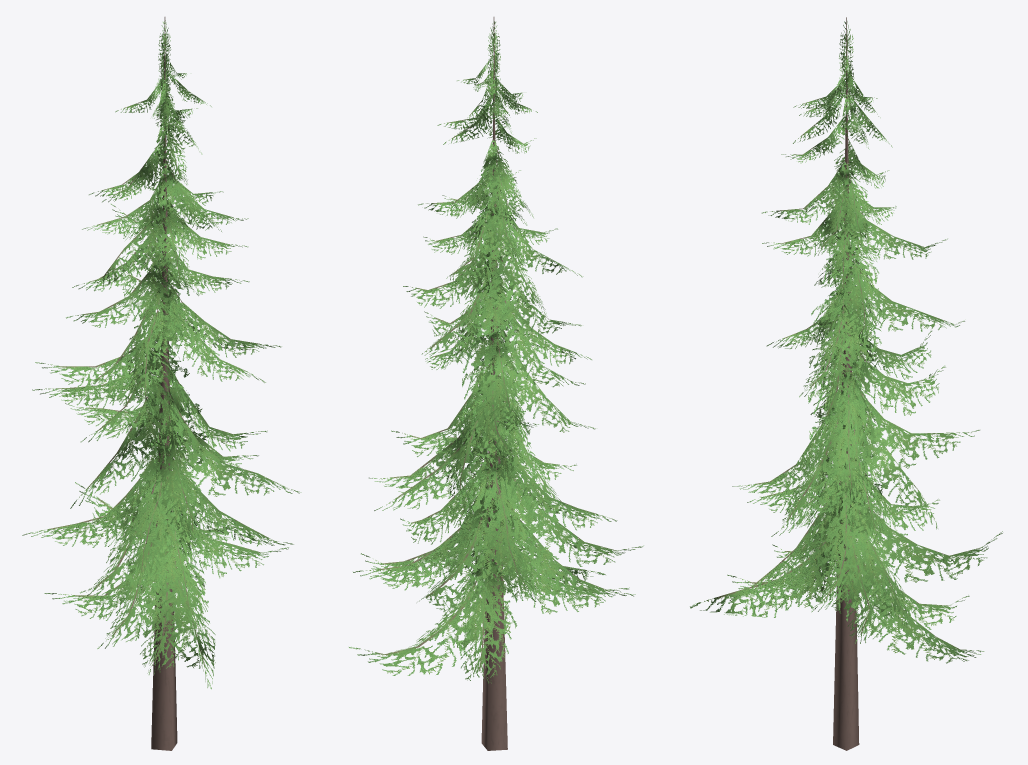
File: tree_Pine_L1_LOD1.fbx
3 views of the same model, side by side, from view 1: azimuth 30°, elevation 25°; view 2: azimuth 150°, elevation 25°; view 3: azimuth 270°, elevation 25° (orthographic).
Visible parts, largest first — view 1: Pine_L1_LOD1; view 2: Pine_L1_LOD1; view 3: Pine_L1_LOD1.
Part boxes in pixels (<box>): Pine_L1_LOD1: <box>22,17,301,750</box>; Pine_L1_LOD1: <box>349,17,643,750</box>; Pine_L1_LOD1: <box>690,17,1002,750</box>.
Size of the model in its own units: 907 by 2391 by 989.
